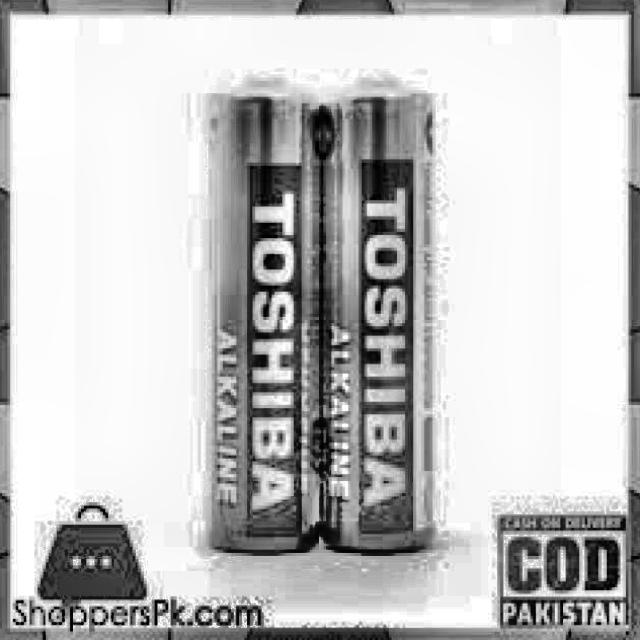Non-Valuable Waste - Batteries: (315, 81, 430, 547), (207, 76, 318, 555)
